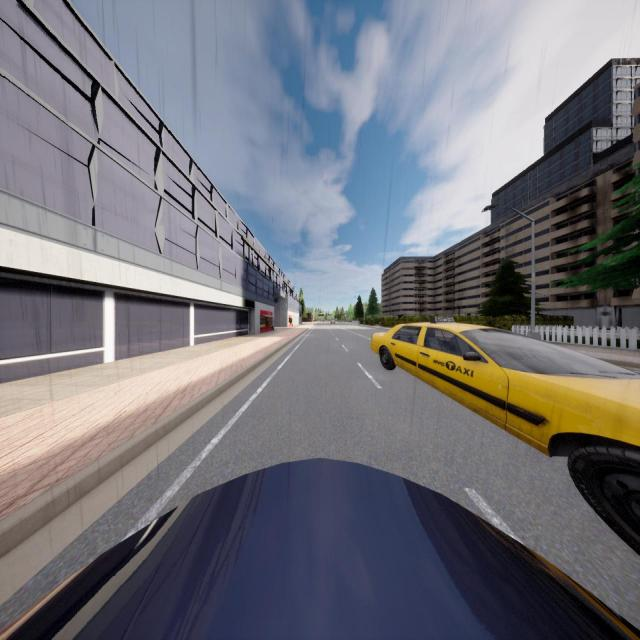Vehicle: (0, 454, 640, 640), (371, 313, 639, 554), (330, 318, 336, 325)
